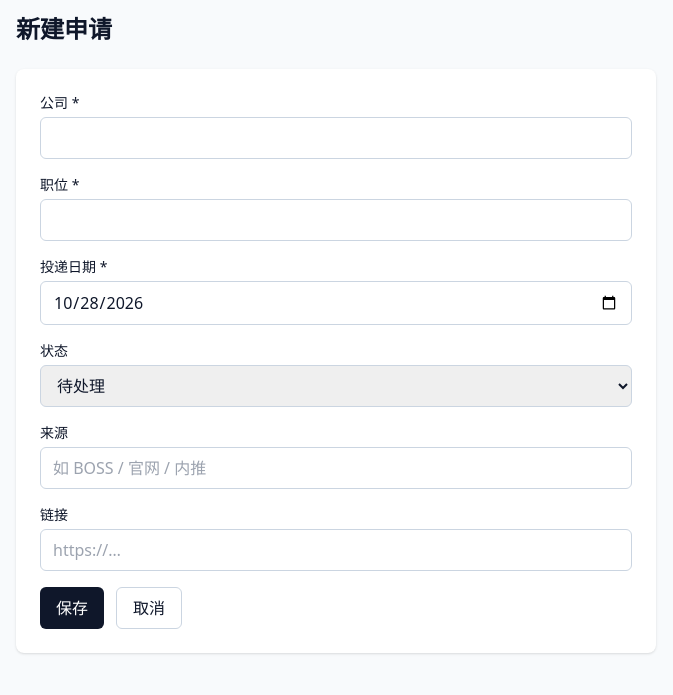
it: ApplicationNew 表单校验 › link 非法 URL 显示字段错误且不提交
In the field with test id "app-company": (336, 138) [40,117,632,159], type "Acme"
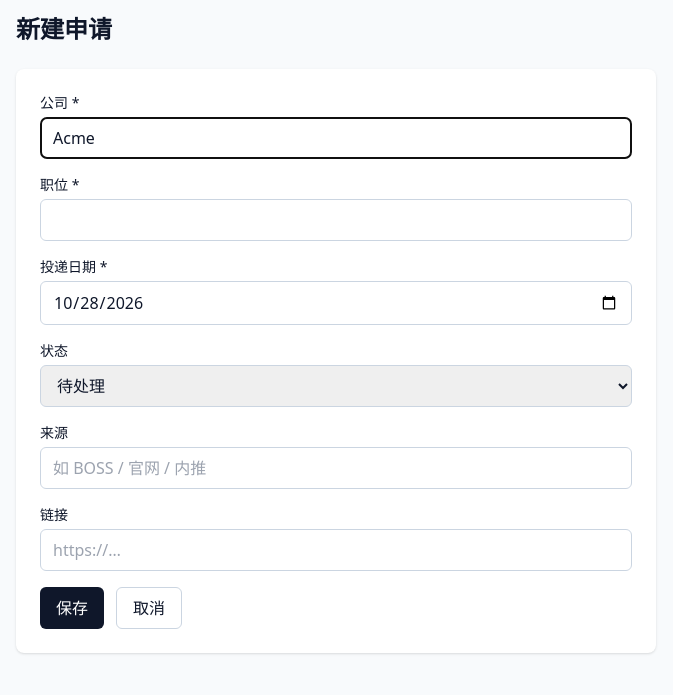
In the field with test id "app-position": (336, 220) [40,199,632,241], type "Engineer"
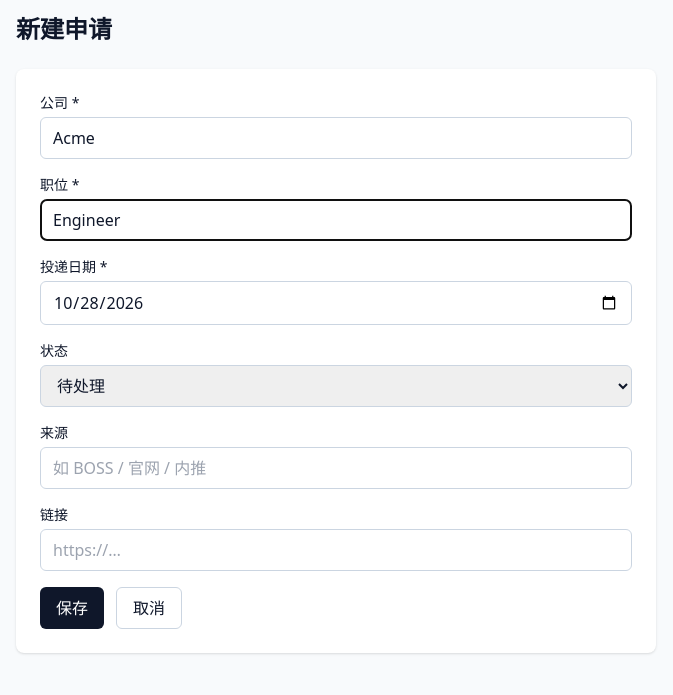
In the field with test id "app-link": (336, 550) [40,529,632,571], type "not-a-url"
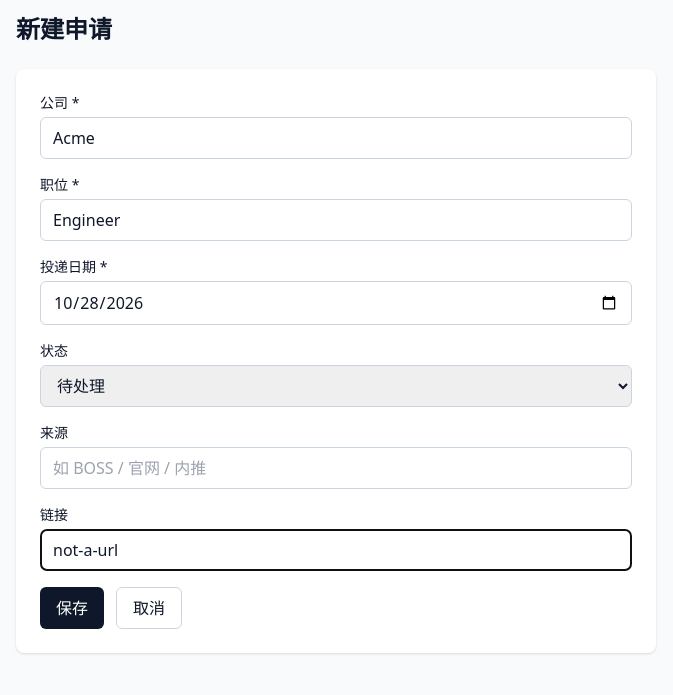
Click the button with test id "app-save": click(72, 608) [40,587,104,629]
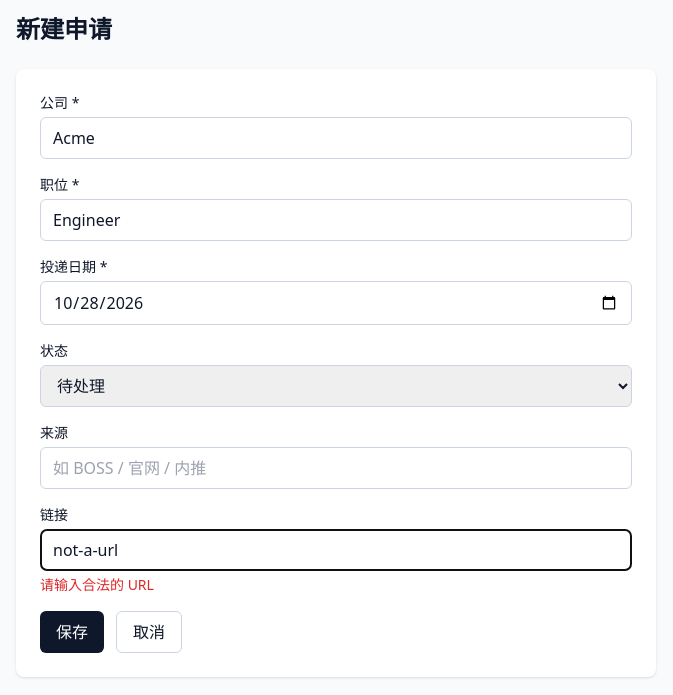
Check: the text "请输入合法的 URL" is shown, box [40,575,154,594]
